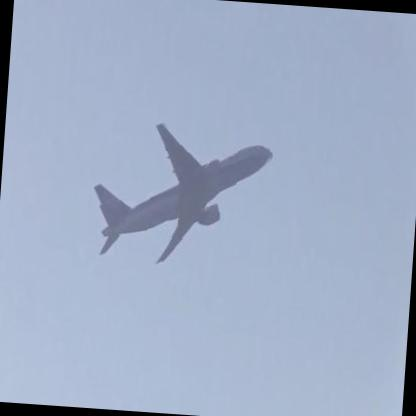plane: (83, 116, 275, 274)
